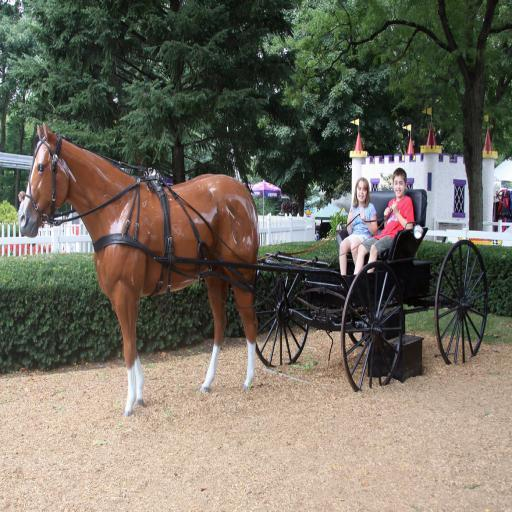horse: (16, 118, 260, 416)
